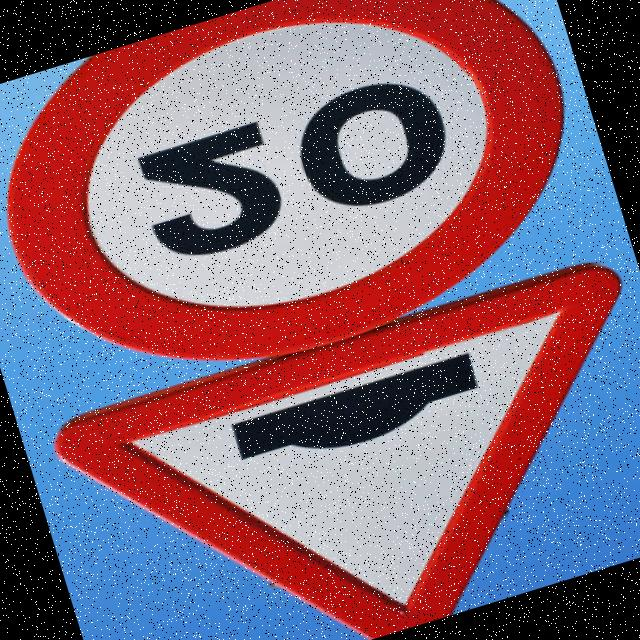speed_limit_20: (0, 0, 621, 429)
